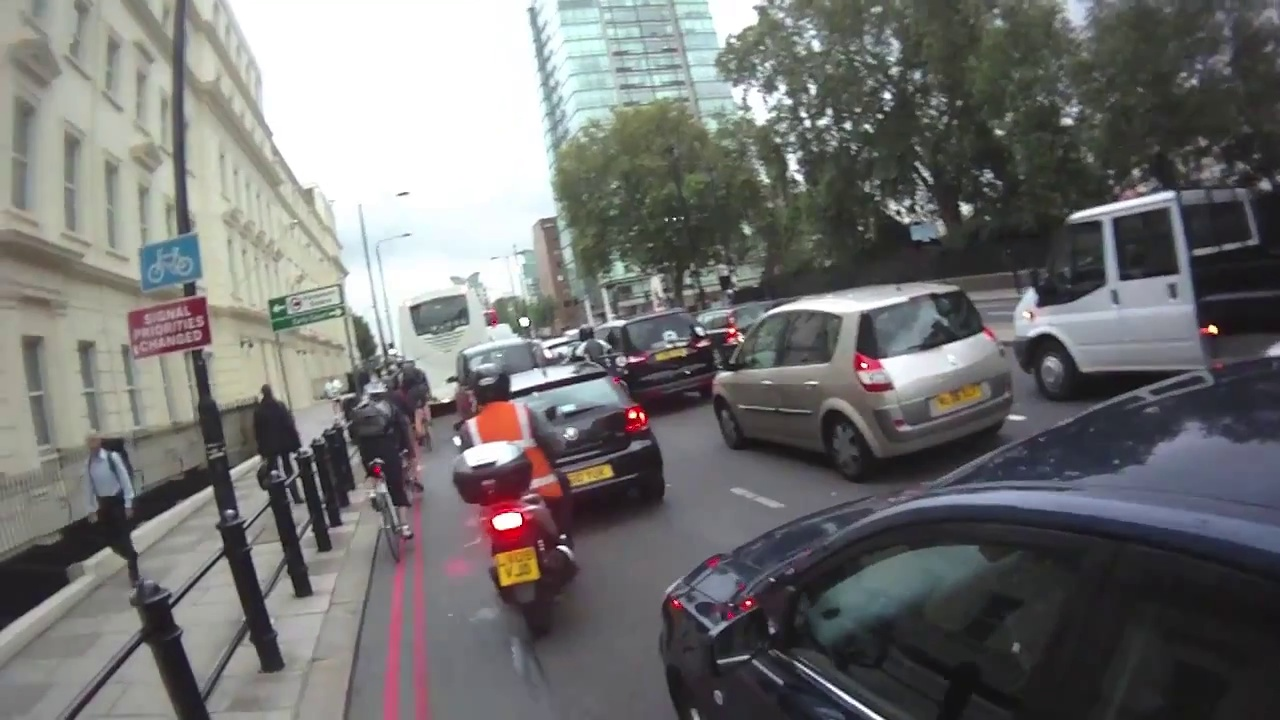cyclist_back: (454, 369, 586, 666), (348, 381, 433, 562), (398, 352, 440, 451)
